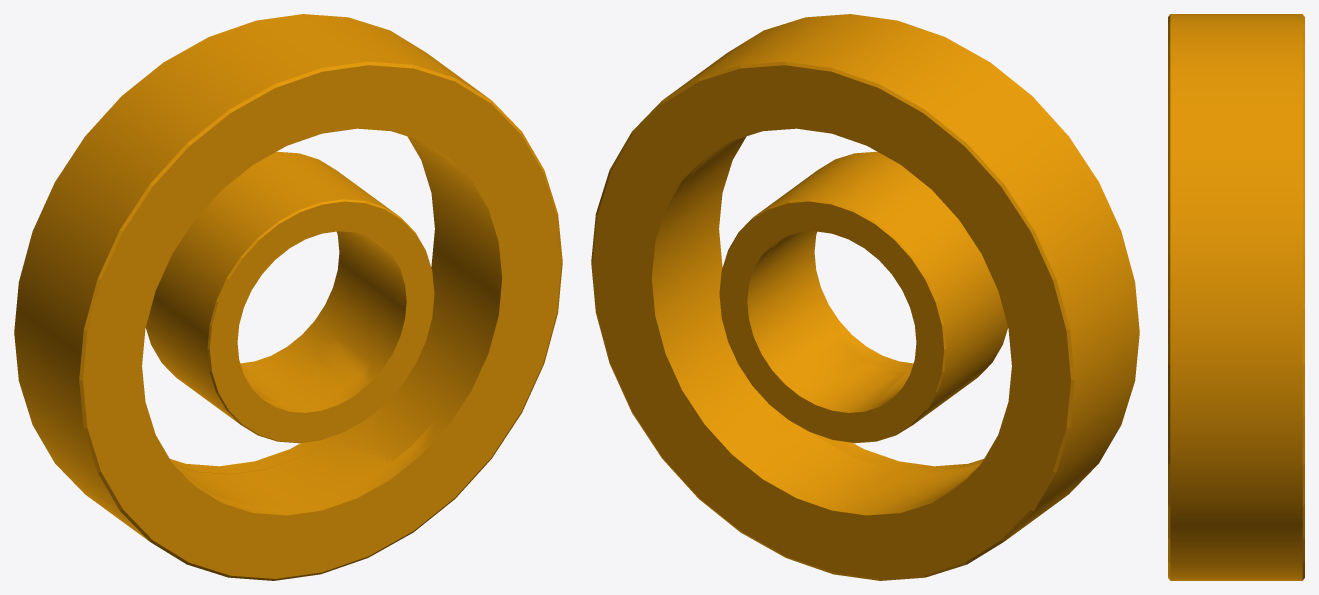
File: Coin.glb
3 renders of one model, left to right at view 1: azimuth 30°, elevation 25°; view 2: azimuth 150°, elevation 25°; view 3: azimuth 270°, elevation 25°, orthographic.
Visible parts, largest first — view 1: coin; view 2: coin; view 3: coin.
Boxes of the visible parts, <box> form: coin: <box>14,14,562,580</box>; coin: <box>591,14,1139,580</box>; coin: <box>1168,14,1304,580</box>.
Size of the model in its own units: 0.6322 by 0.6322 by 0.1523.
